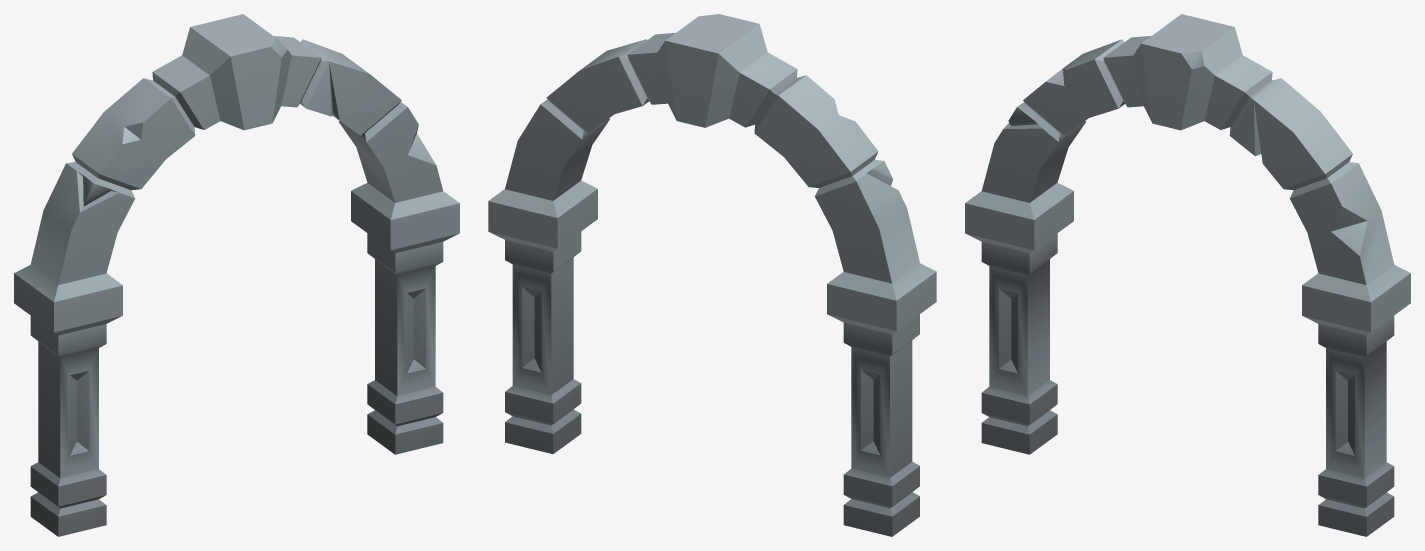
The model's file is garden_arch.glb.
3 renders of one model, left to right at view 1: azimuth 30°, elevation 25°; view 2: azimuth 150°, elevation 25°; view 3: azimuth 330°, elevation 25°, orthographic.
Visible parts, largest first — view 1: arch; view 2: arch; view 3: arch.
Part boxes in pixels (x1,y1,x2,y2): arch: (14,14,459,536); arch: (488,14,936,536); arch: (965,14,1410,536).
Size of the model in its own units: 4.22 by 4.41 by 0.77.
Materials: 1 (1 with a texture image).
